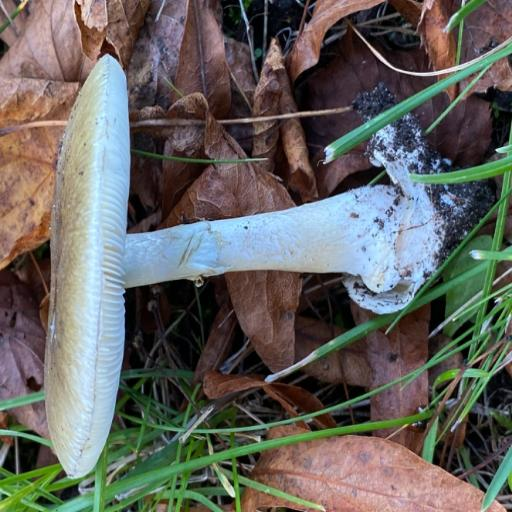Death Cap: (1, 66, 478, 512)
